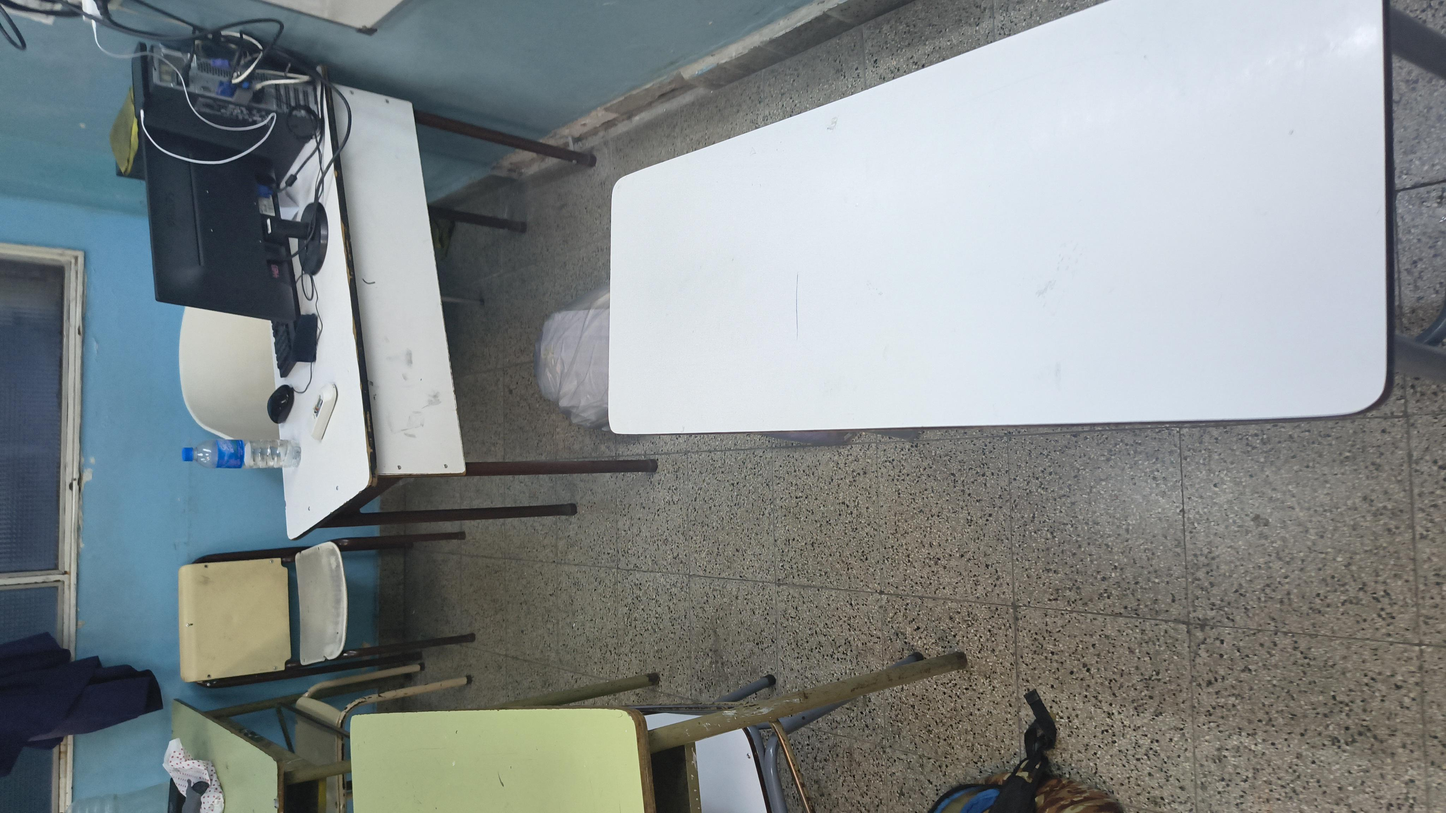Garbage: (653, 278, 967, 359)
